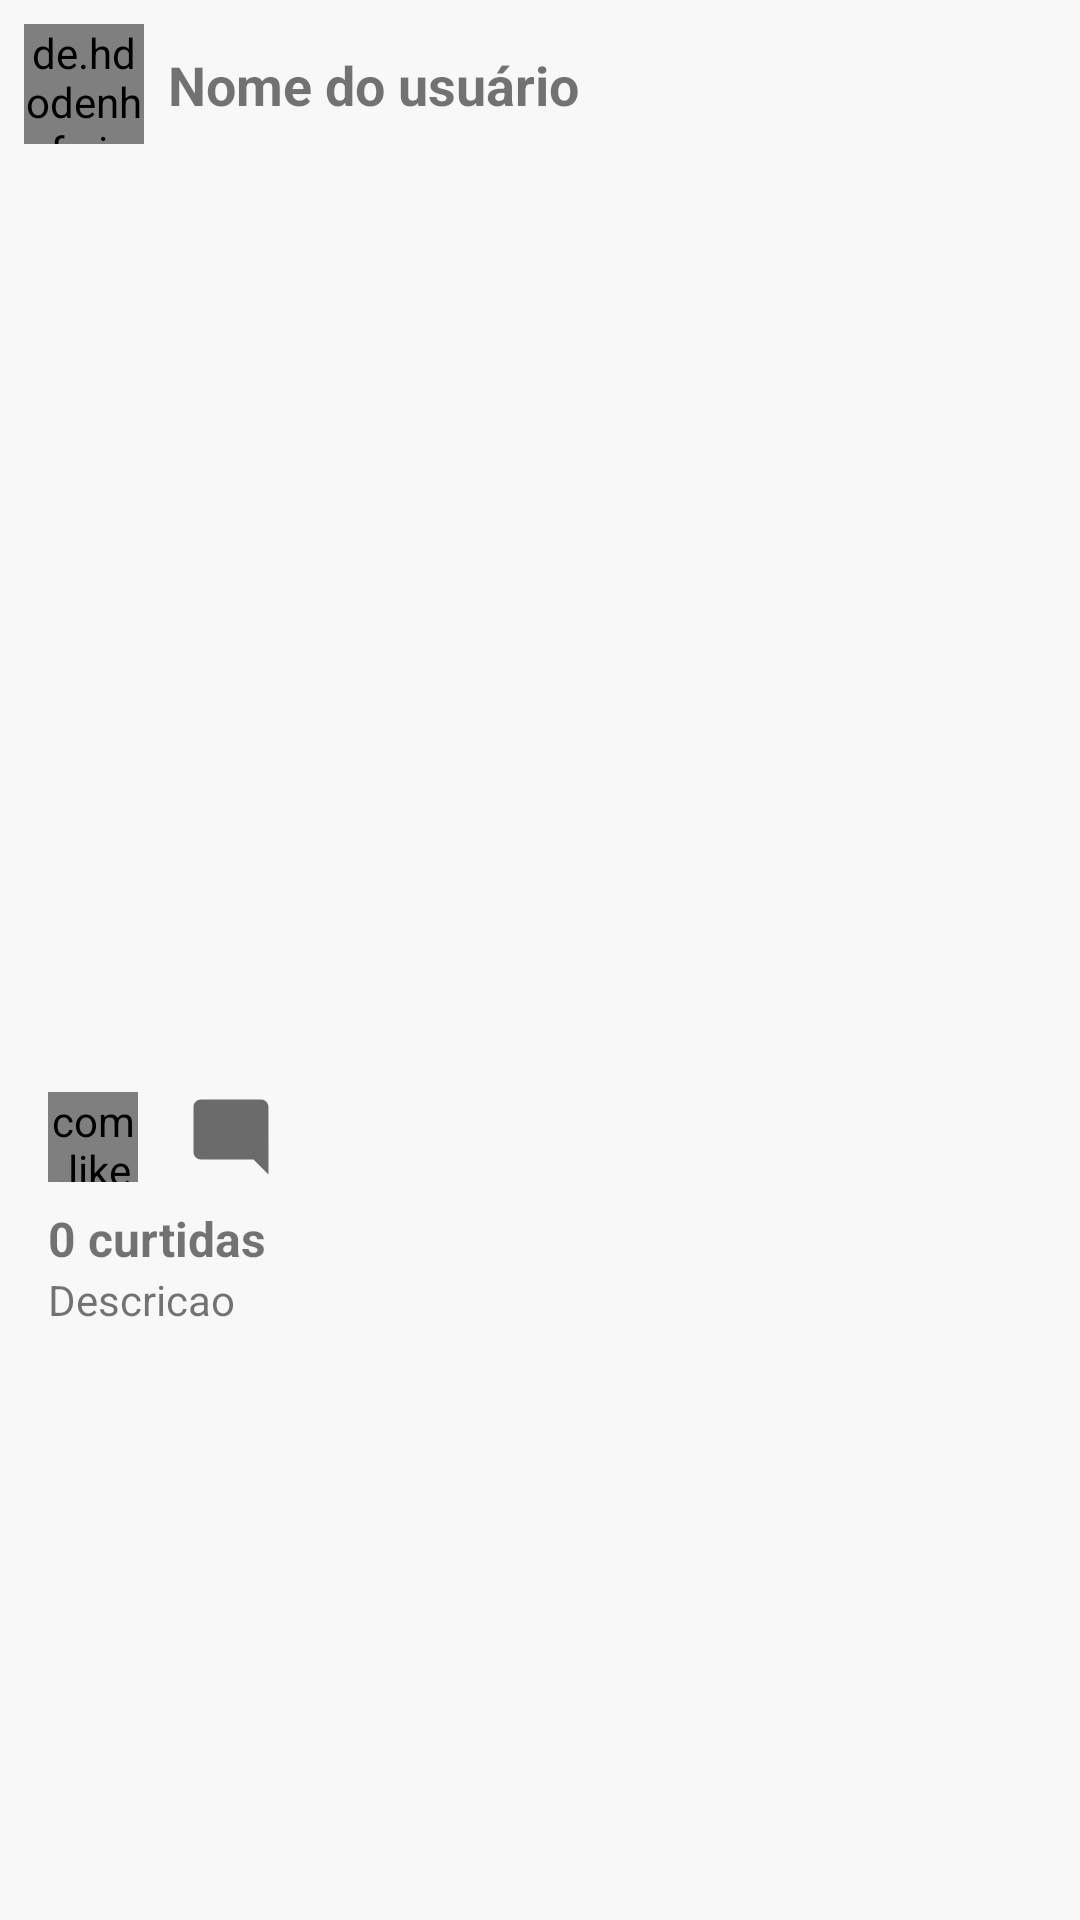

Icon click points for this 1080 × 1920 phone screenshot, format point (x, y):
comentario: point (231, 1136)
